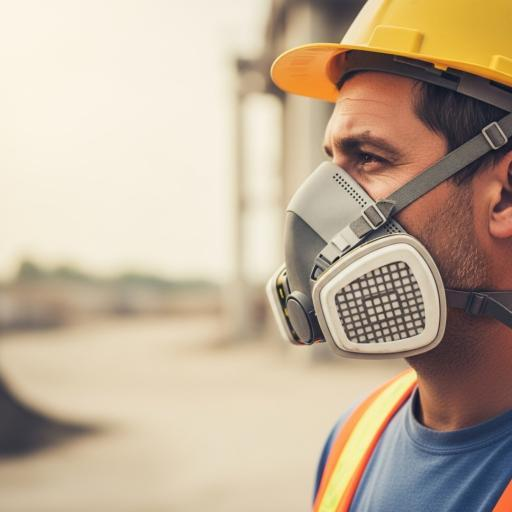mask: (248, 155, 454, 367)
